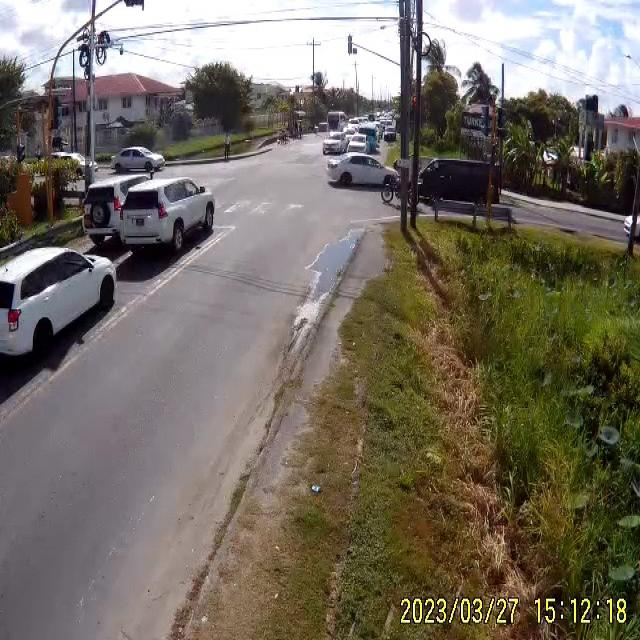car: (1, 240, 120, 373), (114, 176, 216, 258), (326, 154, 399, 190), (111, 146, 166, 174), (321, 136, 347, 157), (345, 136, 371, 156)
